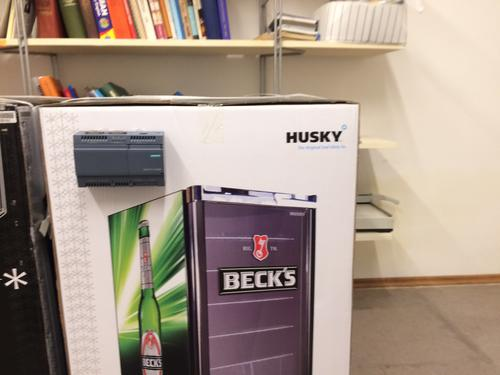iot2000: (72, 128, 166, 188)
